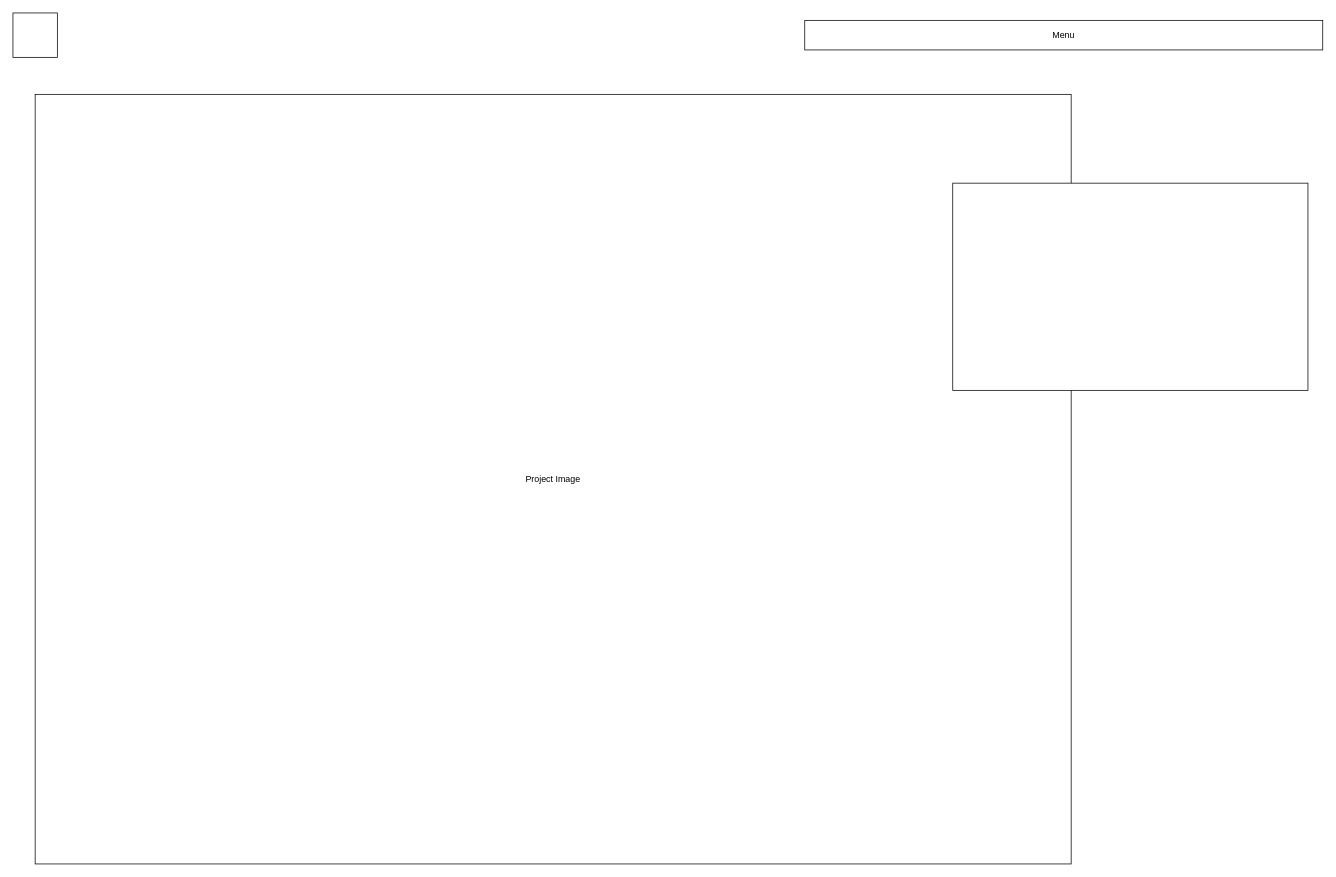
Image size: 1336x877. Some labels were removed from this diagram. Here are the shapes that lost their labels. From the top down, the centre of each, then its label:
At pixel 34 34: "Logo".
At pixel 1130 286: "Description about project".
